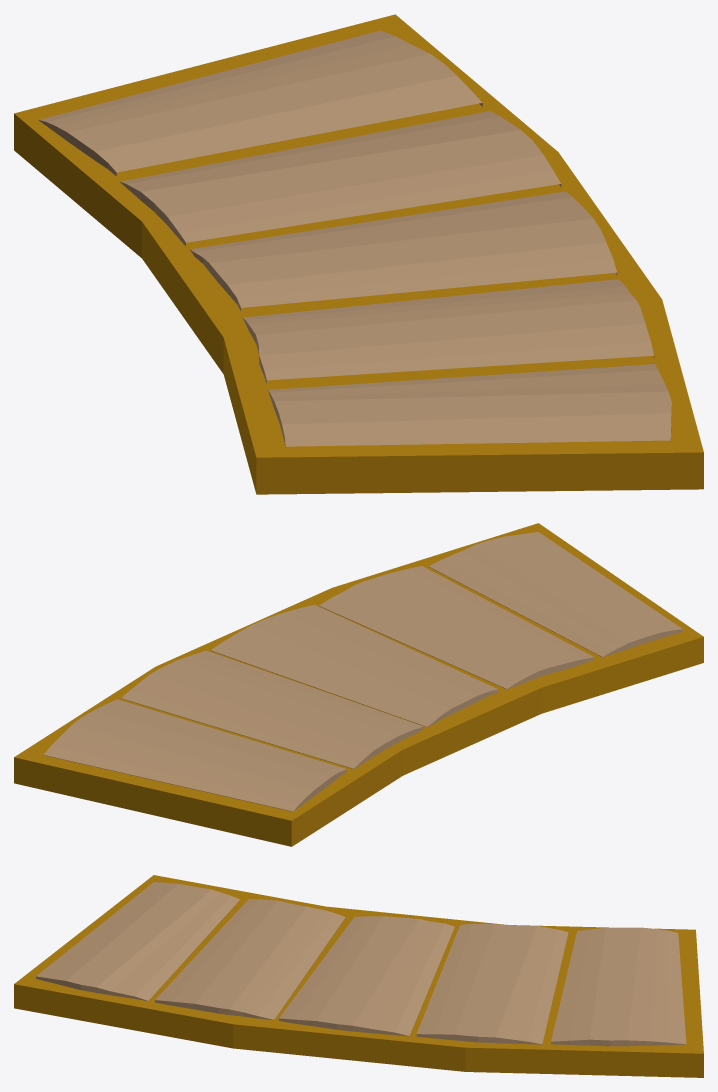
The model's file is middlecircle.fbx.
3 views of the same model, one above another, from view 1: azimuth 30°, elevation 25°; view 2: azimuth 150°, elevation 25°; view 3: azimuth 270°, elevation 25° (orthographic). The views are drawn at different scales.
Parts seen in each view (by area): view 1: Cylinder.117; view 2: Cylinder.117; view 3: Cylinder.117.
Boxes of the visible parts, left/top/right/bottom form: Cylinder.117: left=14, top=14, right=703, bottom=494; Cylinder.117: left=14, top=523, right=703, bottom=846; Cylinder.117: left=14, top=875, right=703, bottom=1077.
Bounding box in the file's own units: 1581 × 124 × 2580.
